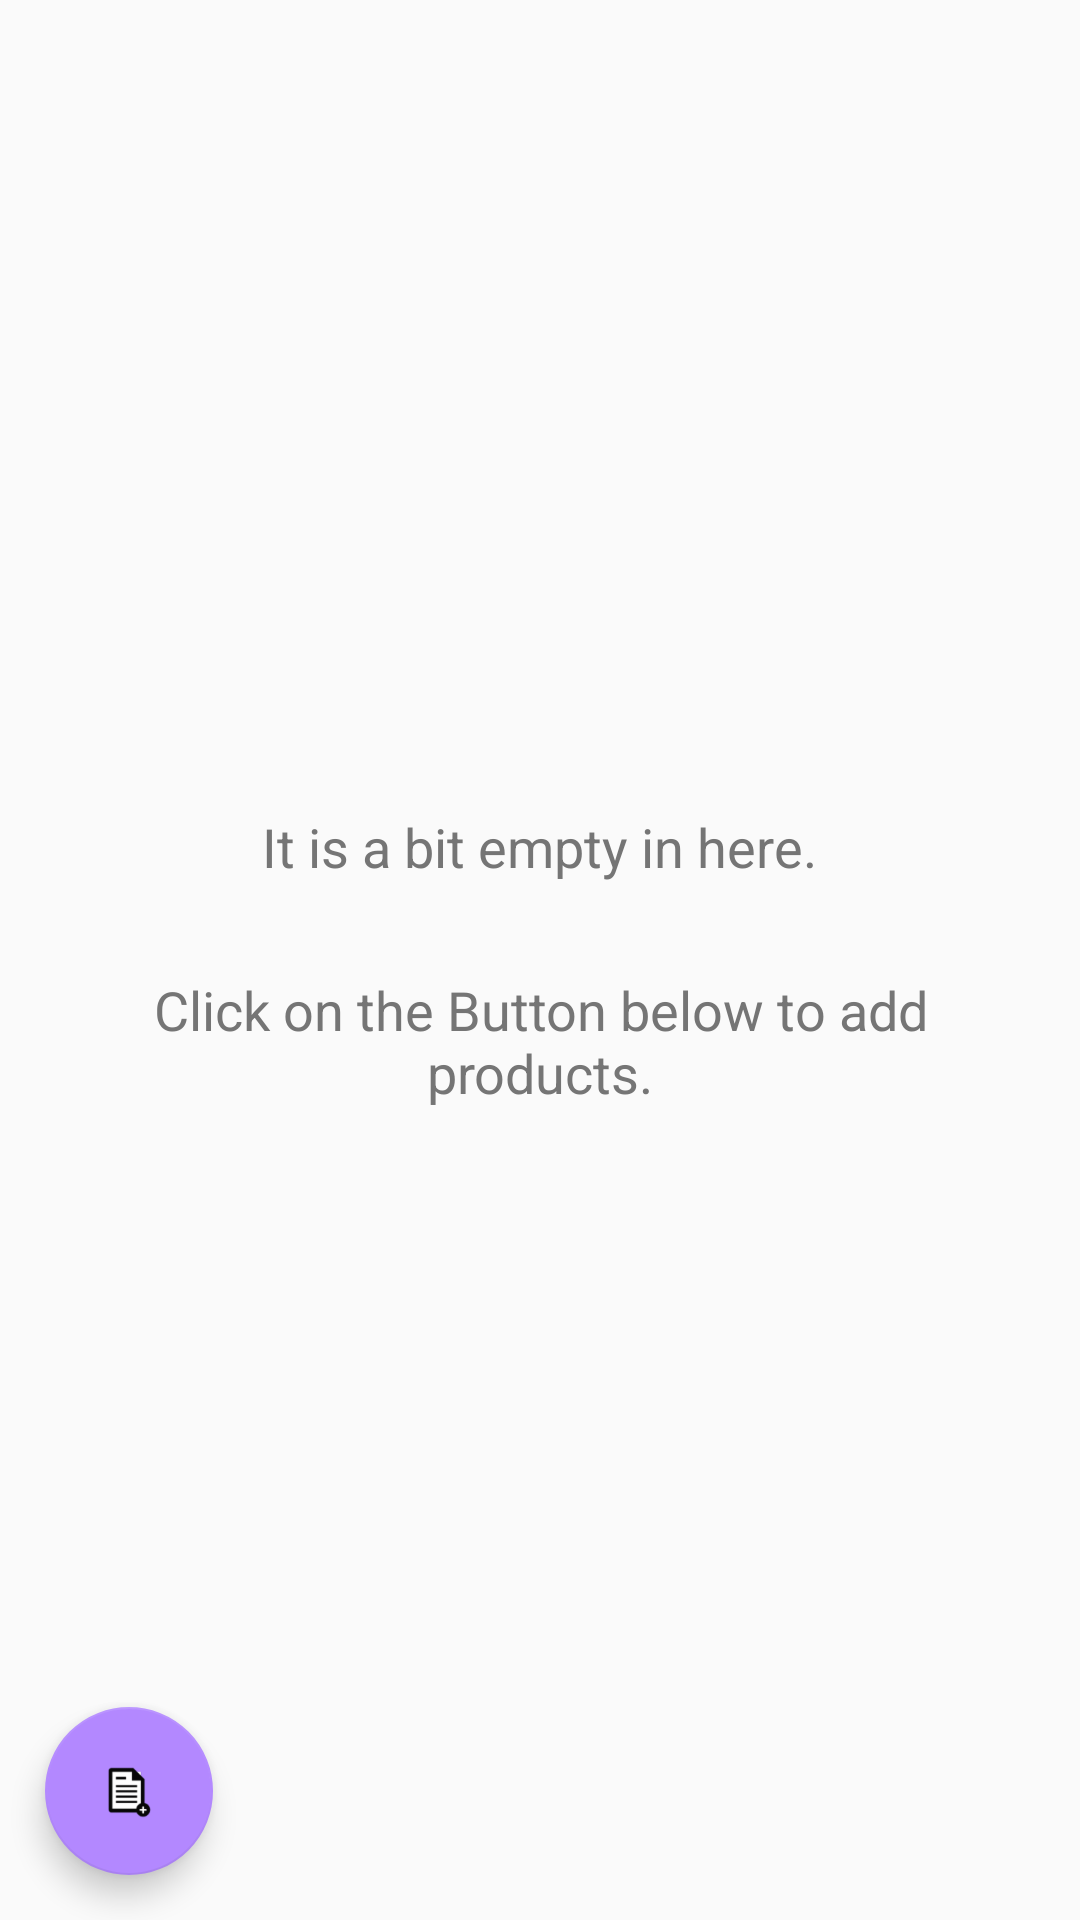

Where to tap for icons on this 1080px x 1920px app screen, as (x,y):
add product: (129,1791)
